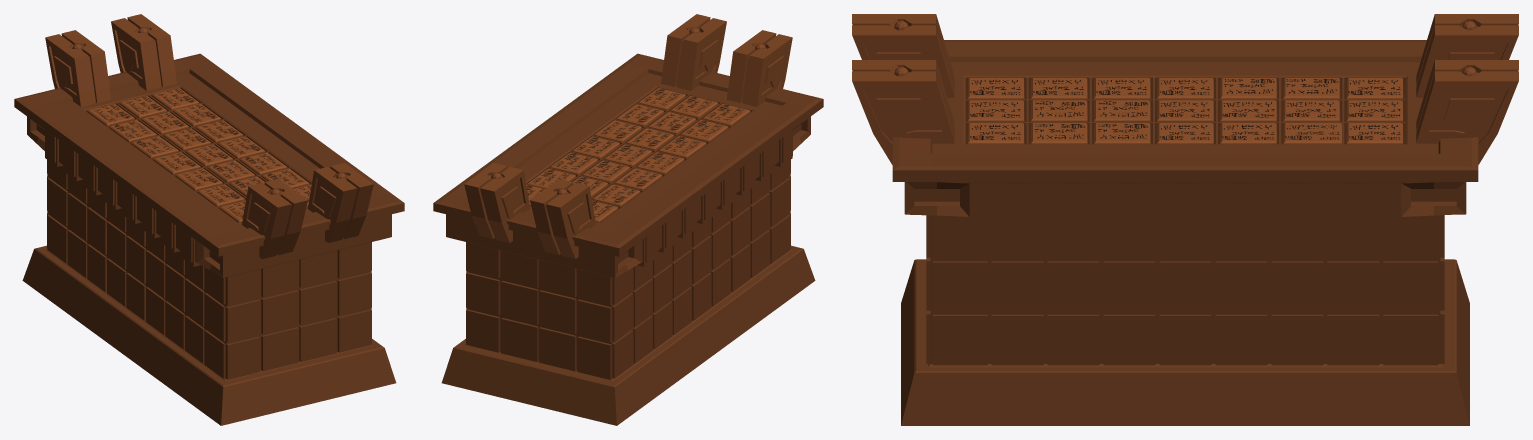
The model's file is ancient-control-panel.glb.
3 views of the same model, side by side, from view 1: azimuth 30°, elevation 25°; view 2: azimuth 150°, elevation 25°; view 3: azimuth 270°, elevation 25° (orthographic). The views are drawn at different scales.
Parts seen in each view (by area): view 1: Cube.047, Cube.024, Cube.046, Cube.025, Cube.029, Cube.035, Cube.038, Cube.027, Cube.031, Cube.032, Cube.036, Cube.037 (+8 smaller); view 2: Cube.047, Cube.024, Cube.046, Cube.032, Cube.035, Cube.041, Cube.031, Cube.033, Cube.036, Cube.037, Cube.038, Cube.042 (+8 smaller); view 3: Cube.047, Cube.024, Cube.046, Cube.025, Cube.027, Cube.043, Cube.045, Cube.028, Cube.040, Cube.042, Cube.026, Cube.034 (+11 smaller).
Boxes of the visible parts, x1=… form: Cube.047: x1=14, y1=53, x2=404, y2=425; Cube.024: x1=45, y1=14, x2=373, y2=258; Cube.046: x1=45, y1=130, x2=200, y2=266; Cube.025: x1=152, y1=88, x2=218, y2=124; Cube.029: x1=141, y1=112, x2=188, y2=134; Cube.035: x1=185, y1=144, x2=233, y2=166; Cube.038: x1=207, y1=160, x2=255, y2=182; Cube.027: x1=87, y1=103, x2=134, y2=125; Cube.031: x1=131, y1=136, x2=178, y2=158; Cube.032: x1=163, y1=128, x2=211, y2=150; Cube.036: x1=218, y1=136, x2=265, y2=158; Cube.037: x1=175, y1=168, x2=222, y2=190; Cube.047: x1=433, y1=53, x2=823, y2=425; Cube.024: x1=464, y1=14, x2=792, y2=258; Cube.046: x1=637, y1=130, x2=792, y2=266; Cube.032: x1=582, y1=160, x2=630, y2=182; Cube.035: x1=604, y1=144, x2=652, y2=166; Cube.041: x1=649, y1=112, x2=696, y2=134; Cube.031: x1=615, y1=168, x2=662, y2=190; Cube.033: x1=550, y1=152, x2=597, y2=174; Cube.036: x1=572, y1=136, x2=619, y2=158; Cube.037: x1=659, y1=136, x2=706, y2=158; Cube.038: x1=626, y1=128, x2=674, y2=150; Cube.042: x1=616, y1=104, x2=663, y2=126; Cube.047: x1=892, y1=40, x2=1478, y2=425; Cube.024: x1=852, y1=14, x2=1518, y2=164; Cube.046: x1=972, y1=182, x2=1398, y2=224; Cube.025: x1=1286, y1=123, x2=1403, y2=144; Cube.027: x1=1346, y1=78, x2=1403, y2=99; Cube.043: x1=967, y1=78, x2=1024, y2=99; Cube.045: x1=967, y1=123, x2=1024, y2=144; Cube.028: x1=1283, y1=78, x2=1340, y2=99; Cube.040: x1=1030, y1=78, x2=1087, y2=99; Cube.042: x1=1030, y1=123, x2=1087, y2=144; Cube.026: x1=1346, y1=100, x2=1403, y2=121; Cube.034: x1=1156, y1=78, x2=1214, y2=99.
Bounding box in the file's own units: 2.54 × 2.91 × 5.5.
Materials: 4 (4 with a texture image).
